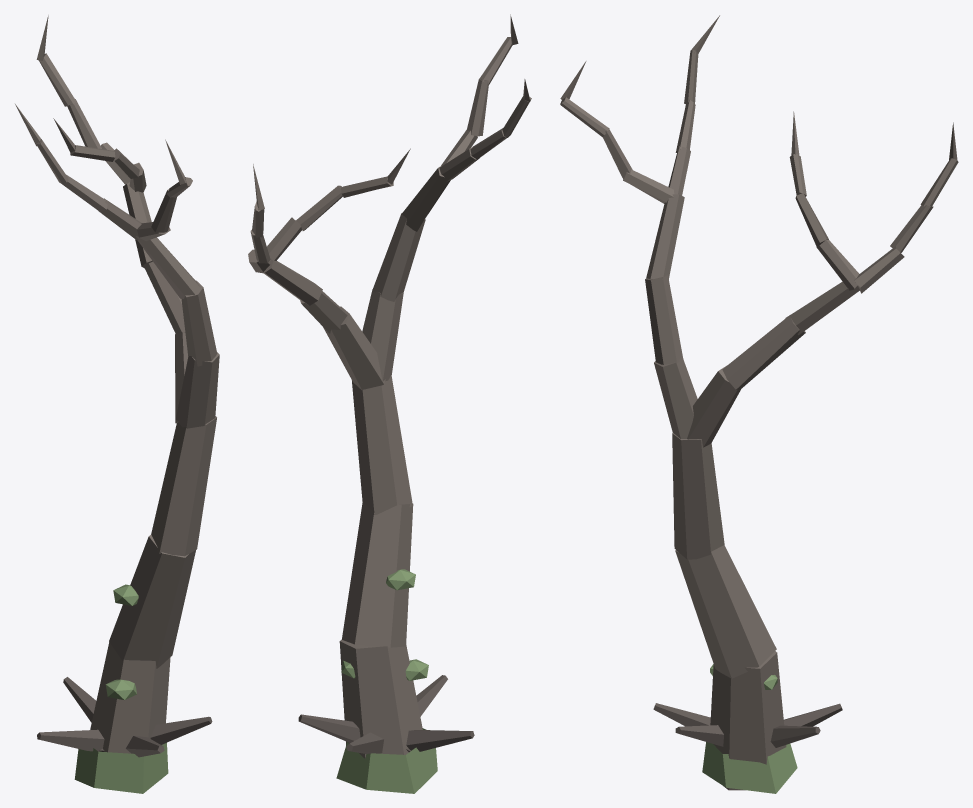
The model's file is swamp_tree.glb.
The picture shows the model from 3 angles, left to right: view 1: azimuth 30°, elevation 25°; view 2: azimuth 150°, elevation 25°; view 3: azimuth 270°, elevation 25°; orthographic projection. The views are drawn at different scales.
Parts seen in each view (by area): view 1: swamp_tree; view 2: swamp_tree; view 3: swamp_tree.
Part boxes in pixels (<box>): swamp_tree: <box>15,15,219,793</box>; swamp_tree: <box>248,14,531,793</box>; swamp_tree: <box>560,15,958,793</box>.
Size of the model in its own units: 2.36 by 8.05 by 4.13.
